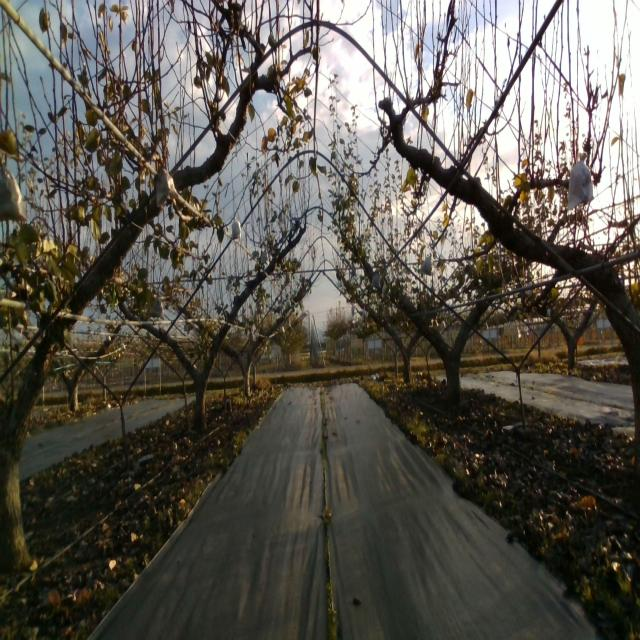pearbags: (0, 153, 27, 224), (568, 154, 594, 210), (156, 168, 178, 208), (420, 252, 432, 276), (232, 216, 242, 241)
